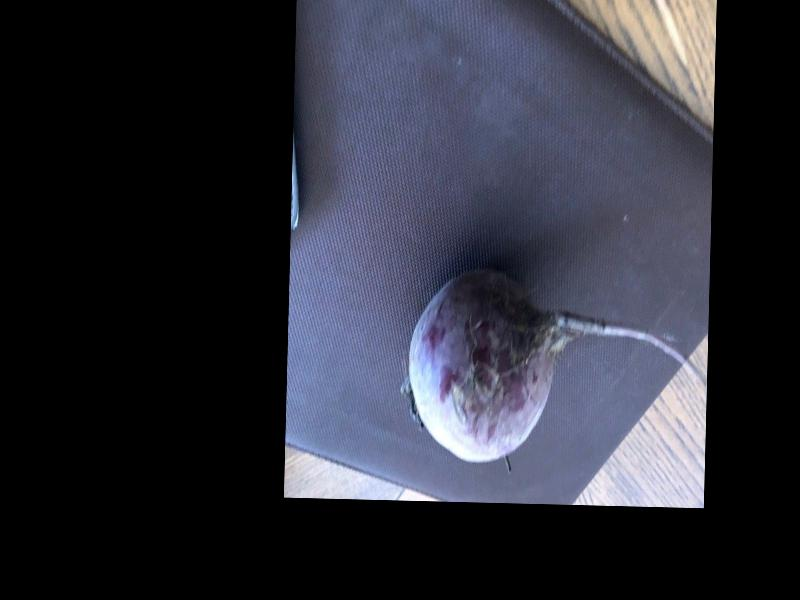Beet: (406, 268, 707, 466)
